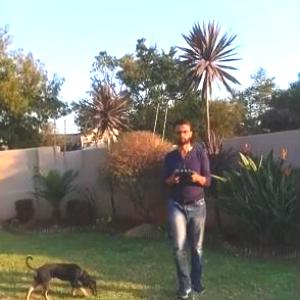follow: (164, 113, 214, 299)
null: (21, 252, 100, 299)
